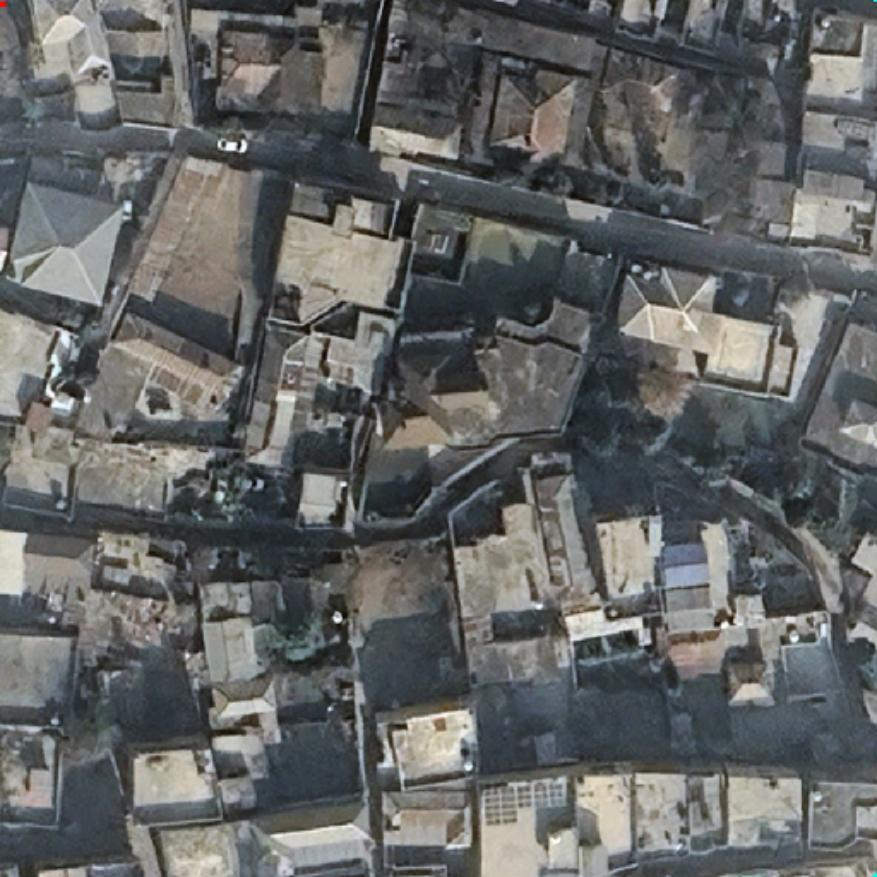Solarpanel: (481, 783, 520, 827), (529, 777, 569, 811)
